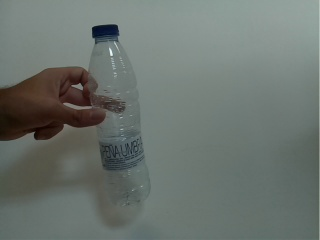botella plastico: (85, 23, 154, 208)
